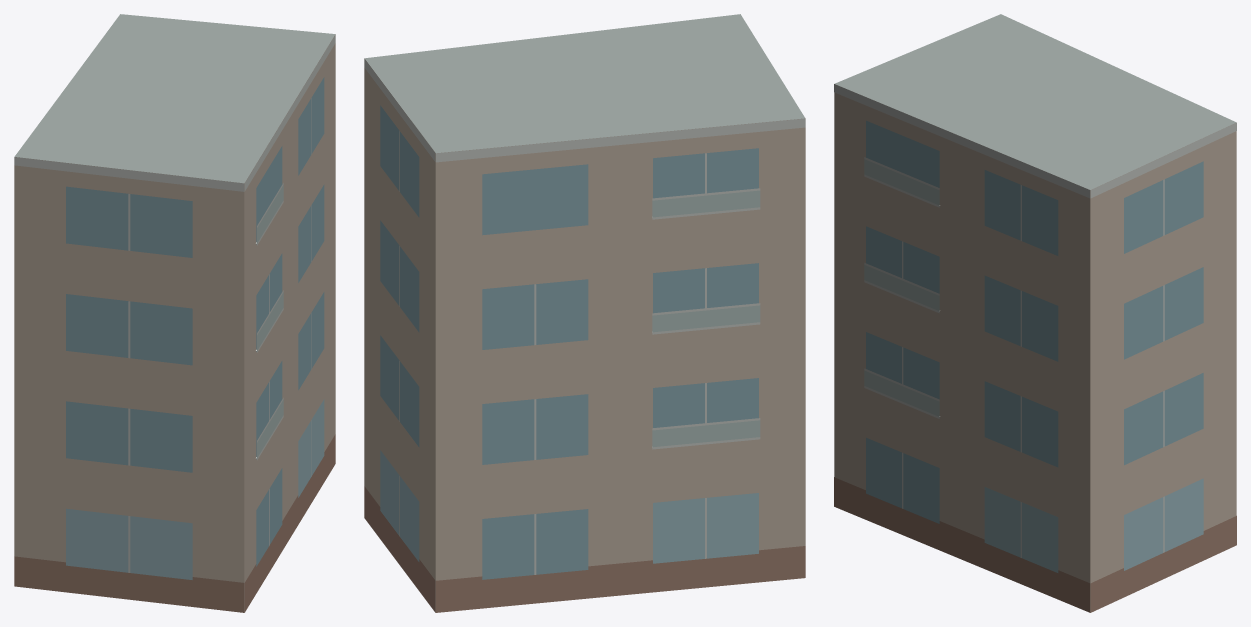
File: survey-upis-32985432.glb
3 renders of one model, left to right at view 1: azimuth 30°, elevation 25°; view 2: azimuth 150°, elevation 25°; view 3: azimuth 270°, elevation 25°, orthographic. The views are drawn at different scales.
Visible parts, largest first — view 1: survey-upis-32985432.tmp; view 2: survey-upis-32985432.tmp; view 3: survey-upis-32985432.tmp.
Boxes of the visible parts, <box> form: survey-upis-32985432.tmp: <box>14,14,335,612</box>; survey-upis-32985432.tmp: <box>364,14,805,612</box>; survey-upis-32985432.tmp: <box>834,14,1236,612</box>.
Bounding box in the file's own units: 10.91 × 12.2 × 10.54.
